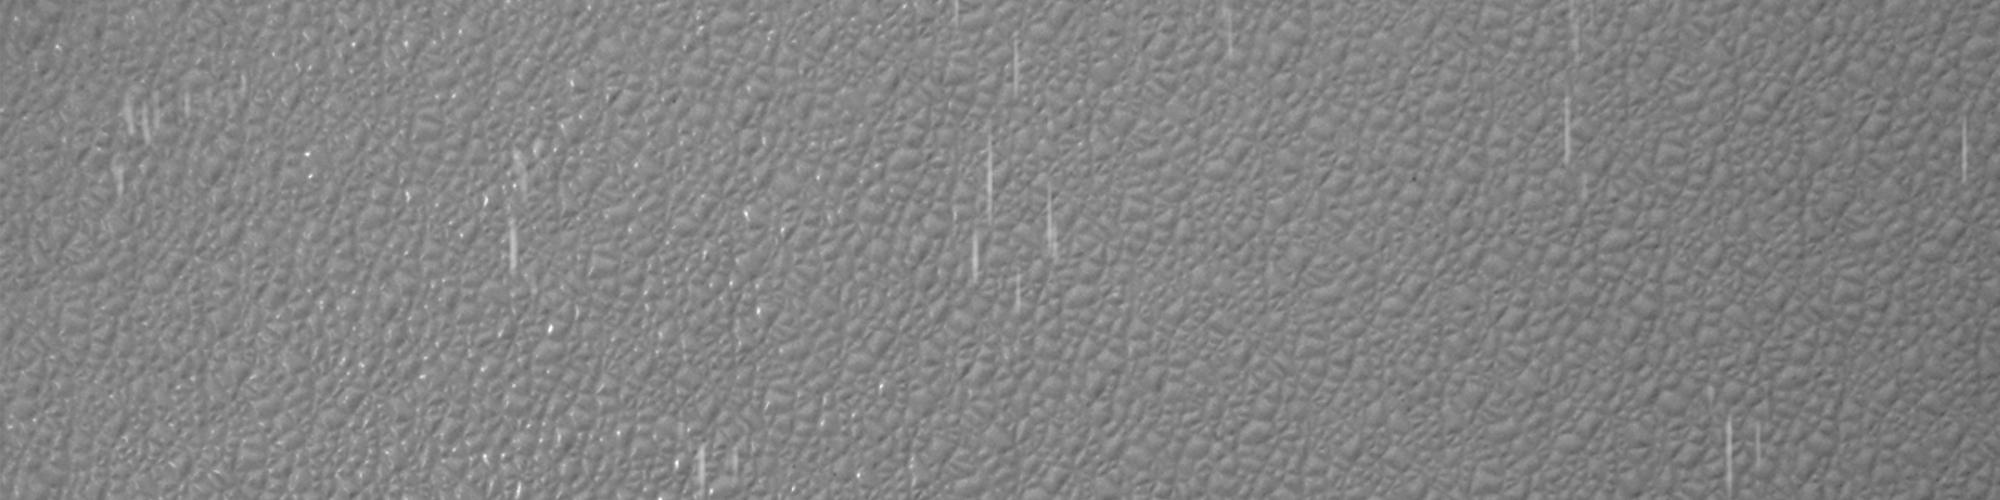Streaks: (181, 64, 261, 125), (114, 84, 166, 147), (977, 124, 1005, 233), (1034, 181, 1066, 270), (1714, 406, 1745, 497), (497, 199, 524, 290), (503, 142, 538, 209), (98, 154, 142, 207), (1004, 31, 1028, 112), (689, 431, 718, 497), (1554, 85, 1577, 168), (963, 202, 983, 293), (1009, 259, 1036, 319), (1564, 5, 1585, 79), (1218, 3, 1242, 64), (1746, 411, 1768, 474), (724, 439, 744, 489), (946, 4, 966, 34)
